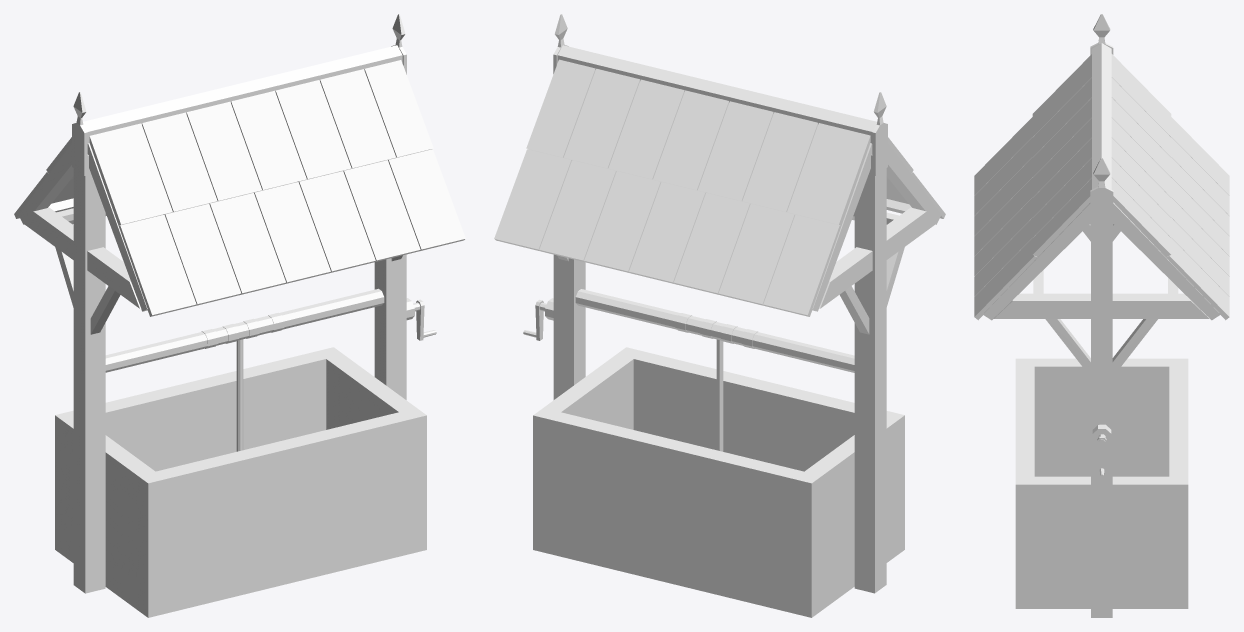
Rendered from Bld_Well_03.glb.
3 views of the same model, side by side, from view 1: azimuth 30°, elevation 25°; view 2: azimuth 150°, elevation 25°; view 3: azimuth 270°, elevation 25° (orthographic). The views are drawn at different scales.
Visible parts, largest first — view 1: Bld_Well_03; view 2: Bld_Well_03; view 3: Bld_Well_03, Bld_Well_Crank_03.
Part boxes in pixels (x1,y1,x2,y2): Bld_Well_03: [14, 14, 465, 617]; Bld_Well_03: [494, 14, 945, 617]; Bld_Well_03: [974, 14, 1229, 617]; Bld_Well_Crank_03: [1092, 424, 1111, 478].
Bounding box in the file's own units: 2.61 × 3.47 × 1.75.
1 material, 1 textured.
